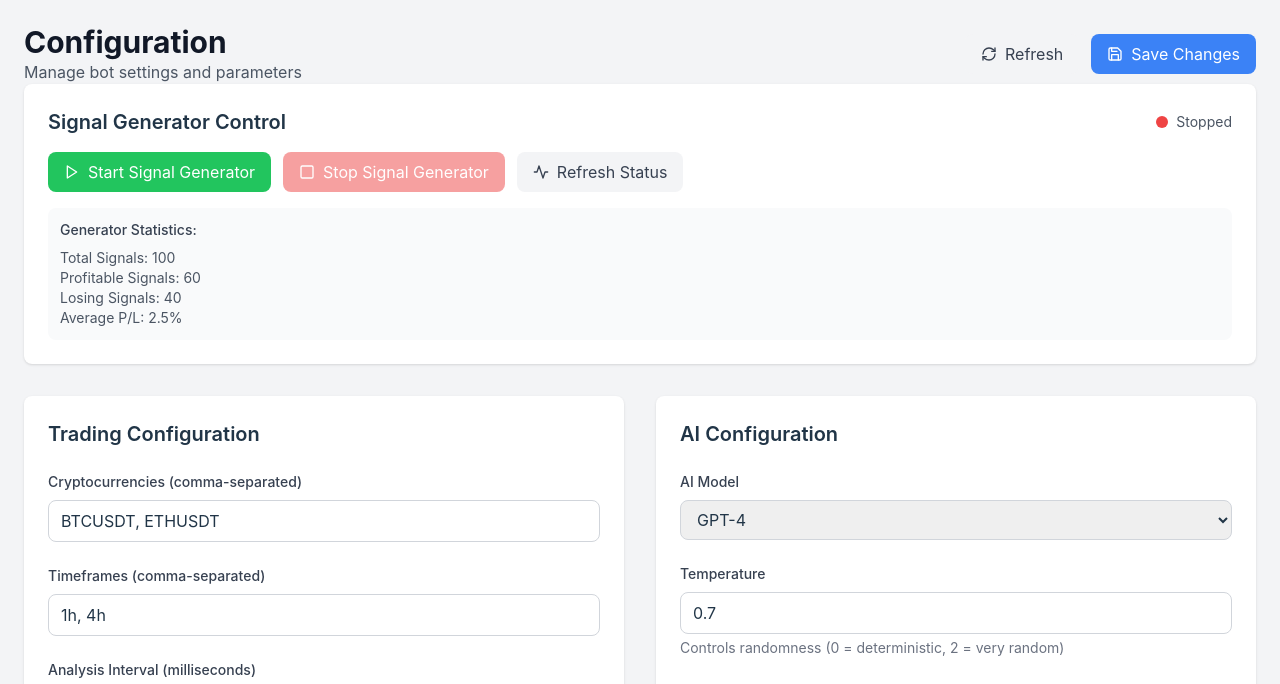
Test: Configuration Page › Save Configuration › should show saving state during save operation
This screenshot has width=1280, height=684.
Check: the heading "Configuration" is shown, box [24, 24, 227, 60]
Click the button with test id "save-config-button" at (1174,54), box [1091, 34, 1256, 74]
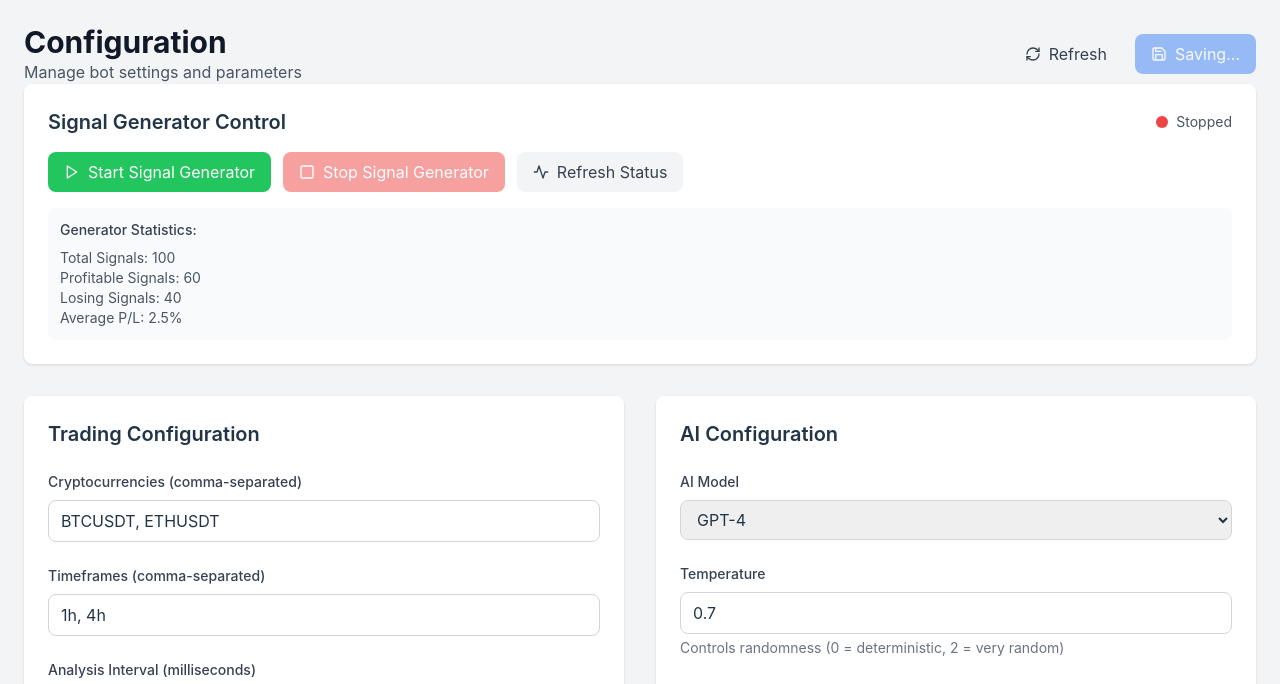
Check: the button with test id "save-config-button" reads "Saving...", box [1135, 34, 1256, 74]
